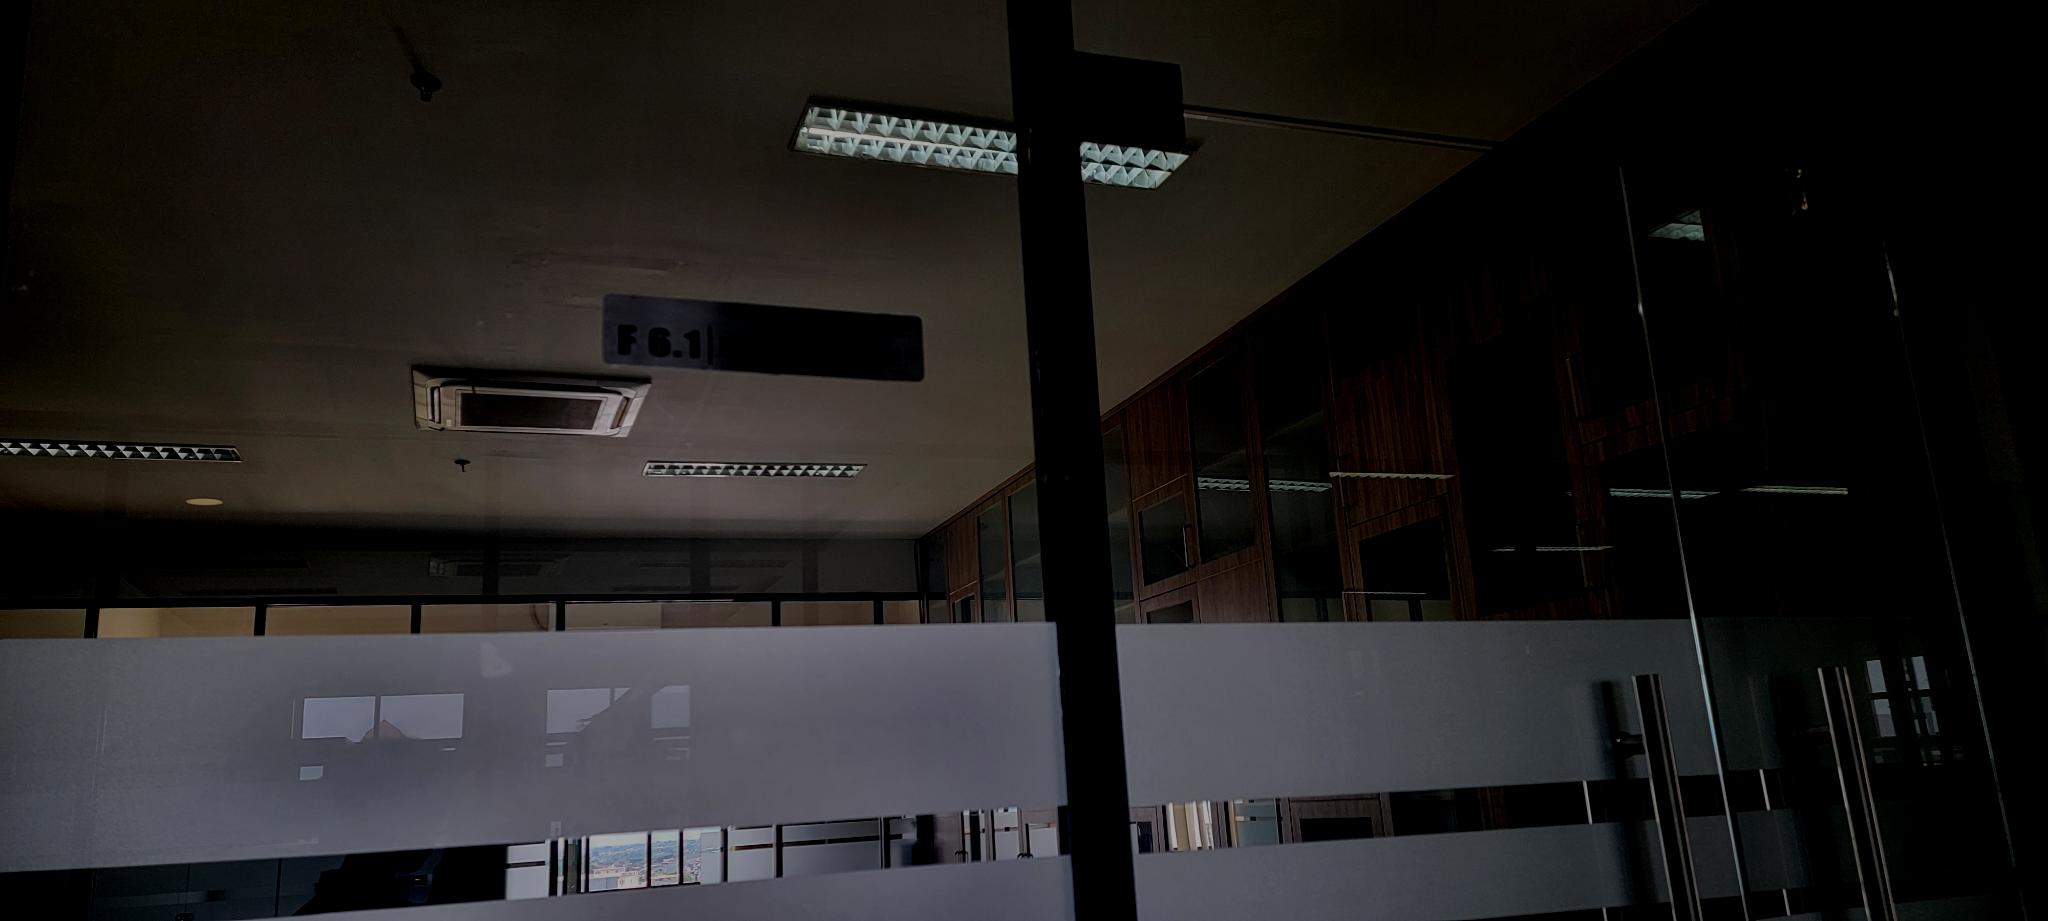plate: (602, 293, 926, 383)
